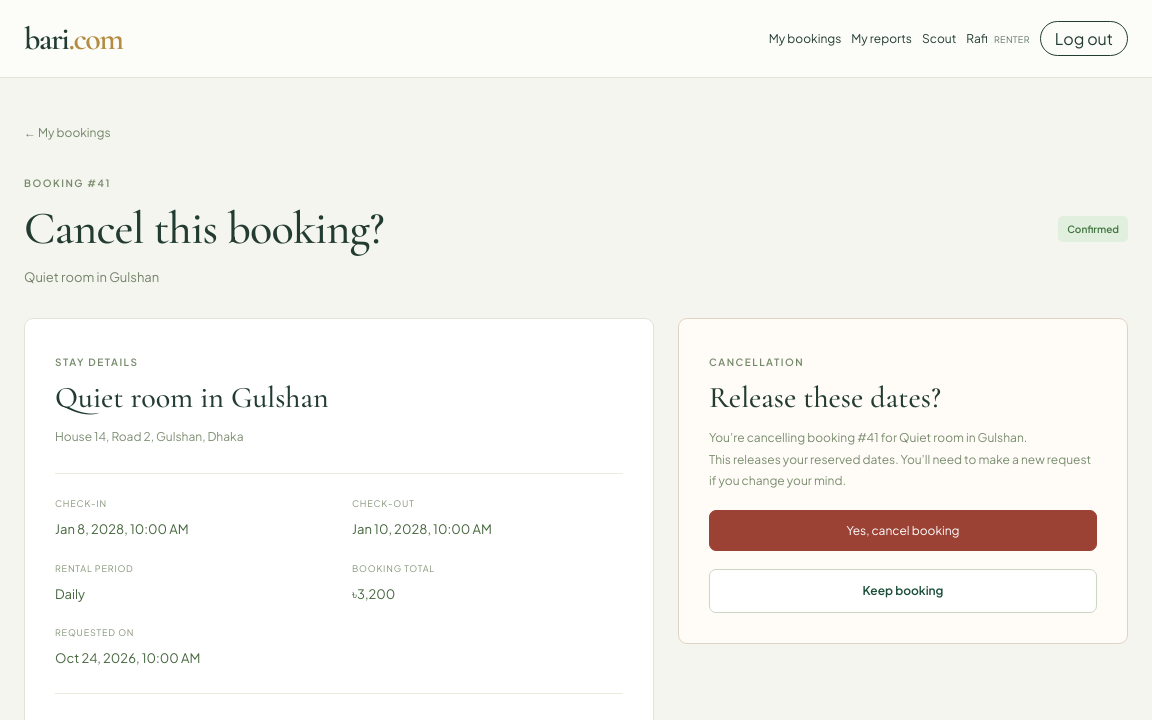
shows an actionable cancellation error and retains the booking
Click the button "Yes, cancel booking": [903, 530] box [709,510,1097,551]
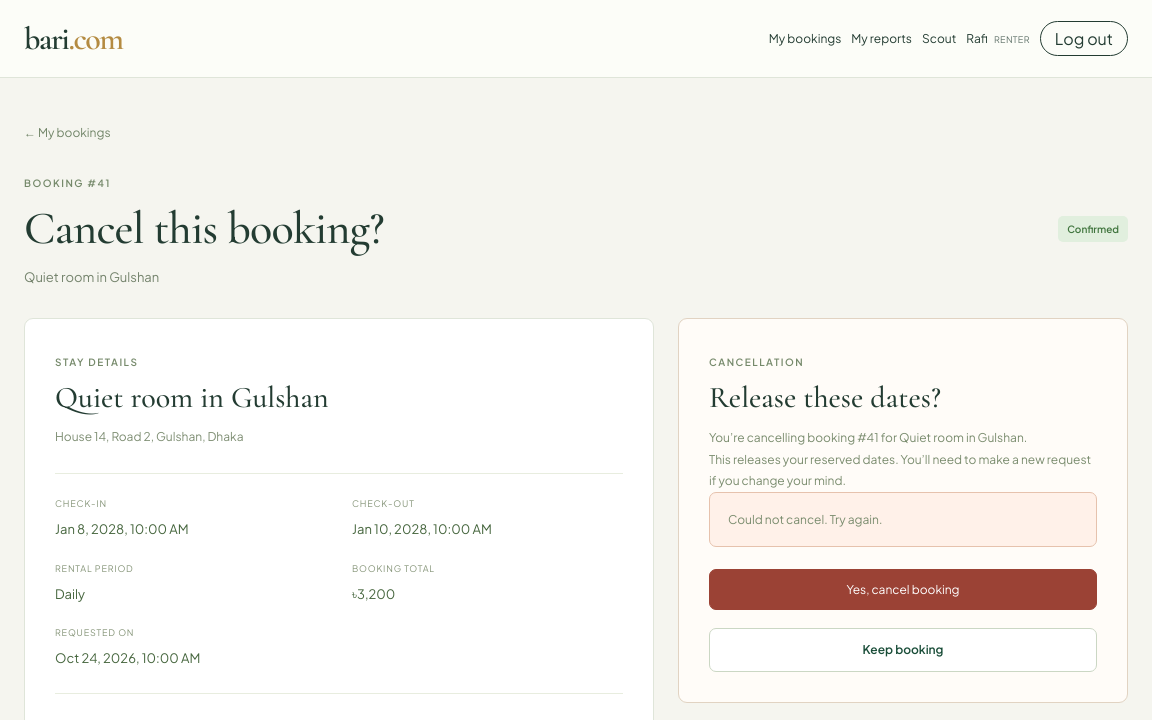
expect the button "Yes, cancel booking" is enabled: met, box [709,570,1097,610]
expect the text "Could not cancel. Try again." is shown: met, box [709,492,1097,548]
